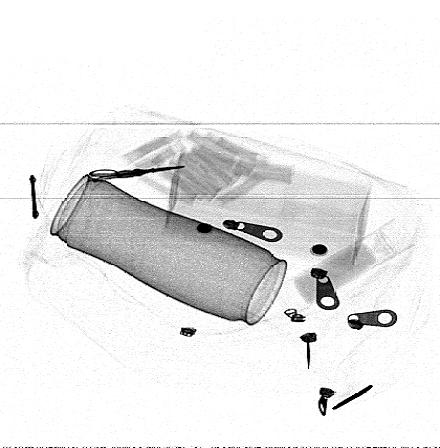Scissors: (89, 164, 188, 183)
